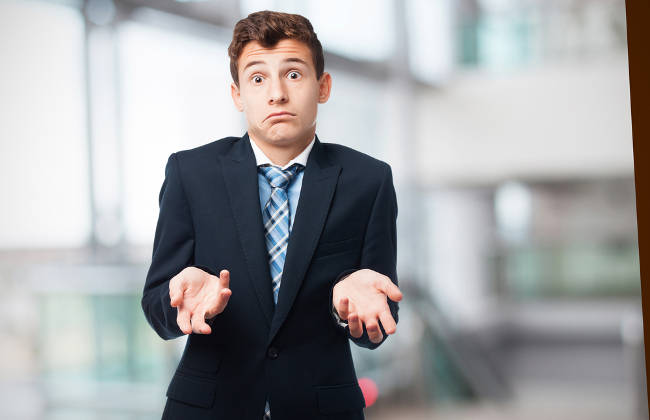confused: (231, 31, 320, 152)
